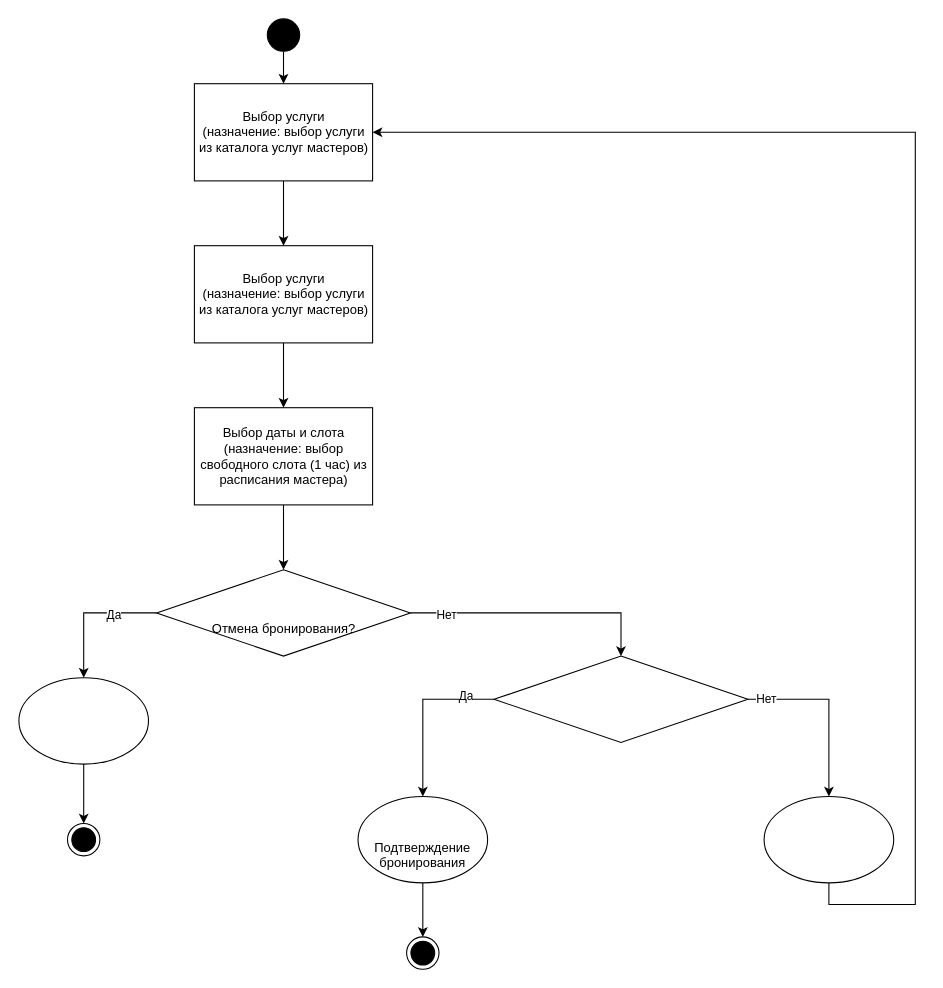
Some shapes in this 943 by 988 pixel diagram are drawn without their labels. The centre of each missing label's shape, as x and y in pixels:
Выход без сохранения: (83,720)
Слот свободен?: (620,698)
Сообщение "Слот занят, выберите другой": (828,839)
